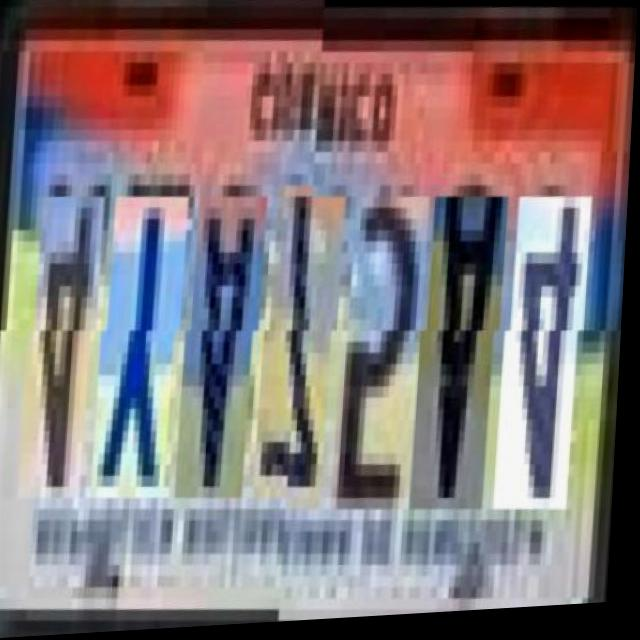4: (505, 181, 594, 502), (28, 194, 105, 501)
5: (342, 181, 431, 502)
7: (264, 181, 347, 501)
a: (420, 181, 510, 501), (185, 194, 268, 501)
y: (101, 193, 190, 501)
